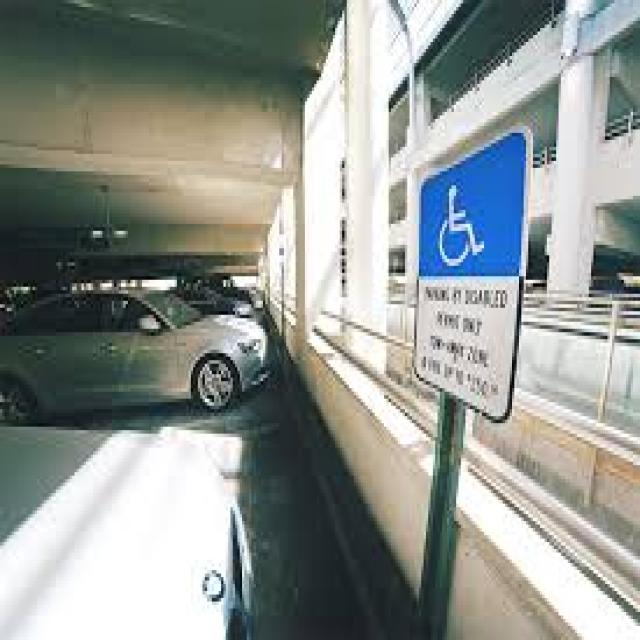car-handicap-placard: (438, 184, 485, 269)
